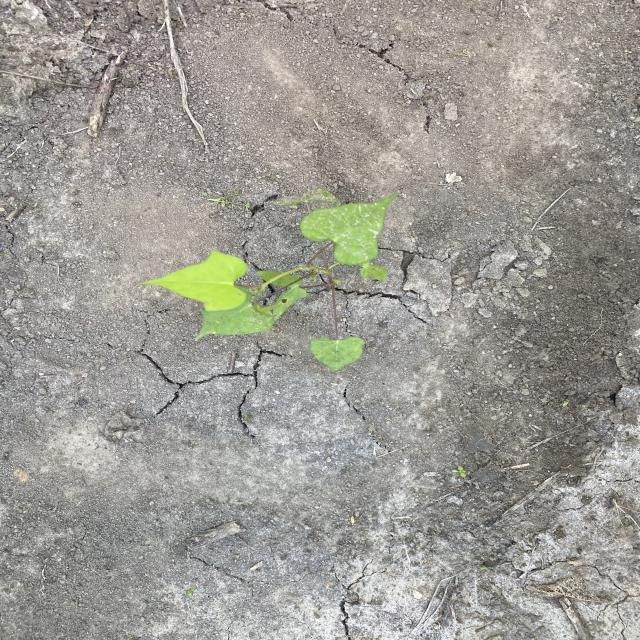MorningGlory: (134, 186, 405, 374)
